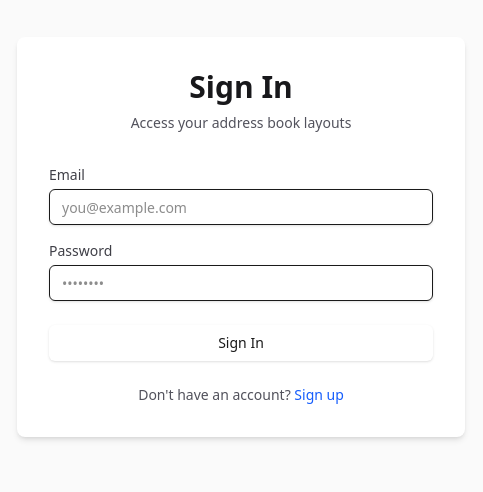
Test: LoginPage › should display error message on failed login
Type "test@example.com" into the field labelled "Email" at (241, 207), box top-left (49, 189), bottom-right (433, 225)
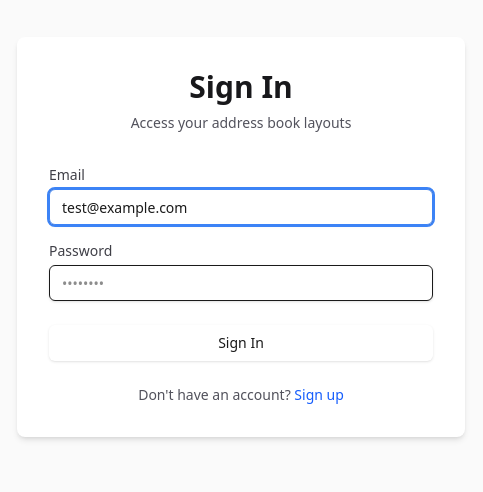
Type "wrongpassword" into the password field labelled "Password" at (241, 283), box top-left (49, 265), bottom-right (433, 301)
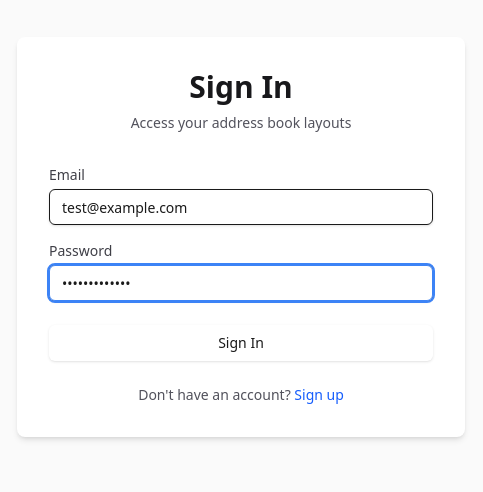
Click the button with aria-label "sign in to your account" at (241, 343), box top-left (49, 325), bottom-right (433, 361)
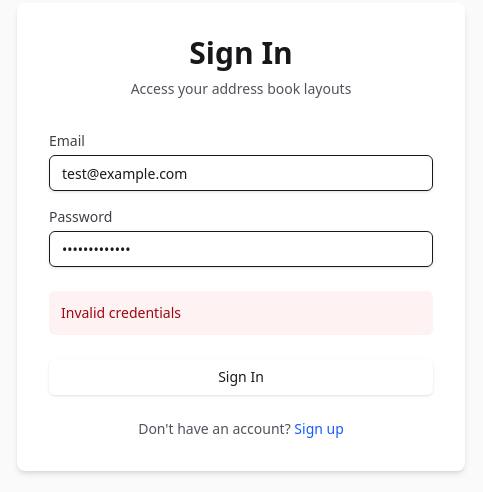
Now the text "Invalid credentials" is shown, box top-left (49, 291), bottom-right (433, 335)
